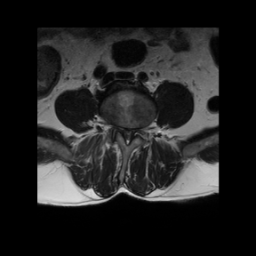CCS_normal: (124, 124, 129, 147)
LFS_severe_stenosis: (133, 125, 137, 136)
LLS_severe_stenosis: (128, 124, 133, 136)
RFS_stenosis: (116, 121, 122, 134)
RLS_severe_stenosis: (121, 123, 125, 137)
